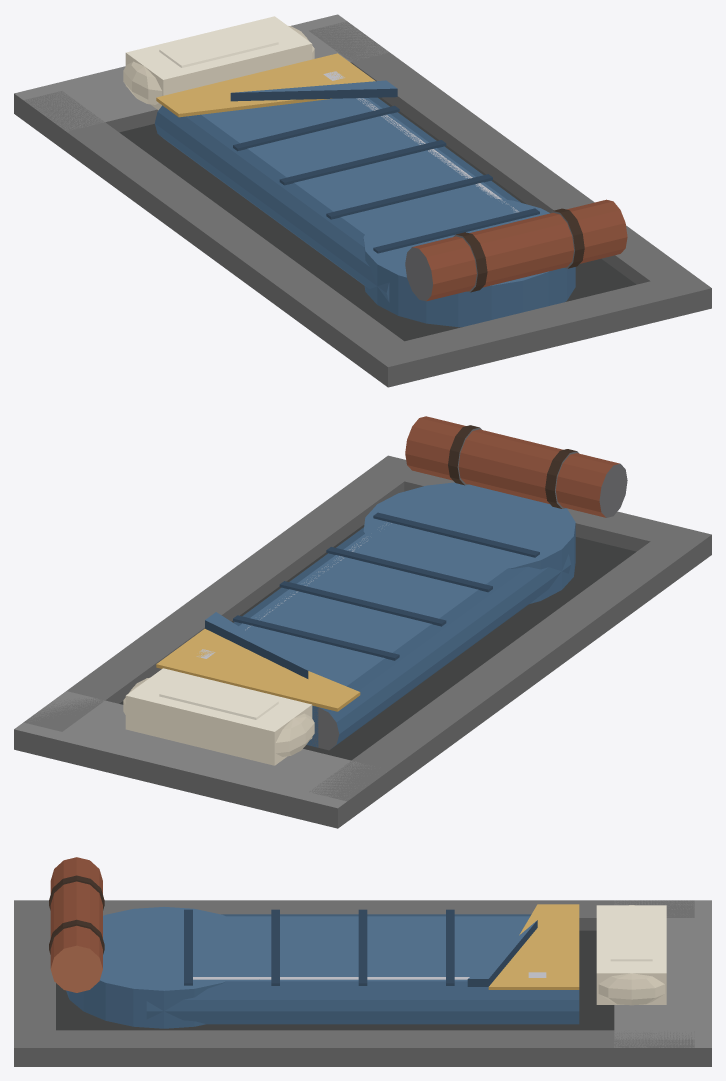
The model's file is Building_SleepingSpot.glb.
3 renders of one model, top to bottom at view 1: azimuth 30°, elevation 25°; view 2: azimuth 150°, elevation 25°; view 3: azimuth 270°, elevation 25°, orthographic. The views are drawn at different scales.
Visible parts, largest first — view 1: SleepingSpot; view 2: SleepingSpot; view 3: SleepingSpot.
Boxes of the visible parts, x1,y1,x2,y2 form: SleepingSpot: [14, 14, 711, 387]; SleepingSpot: [14, 416, 711, 828]; SleepingSpot: [14, 857, 711, 1066].
Bounding box in the file's own units: 1 × 0.295 × 2.
Materials: 1 (1 with a texture image).
